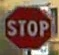stop: (3, 4, 52, 49)
